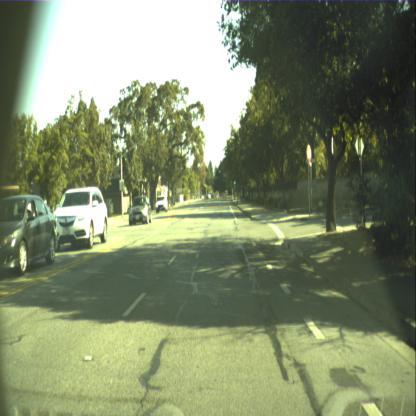Green: (233, 176, 236, 186), (218, 166, 221, 174)
Red: (182, 182, 184, 187)
